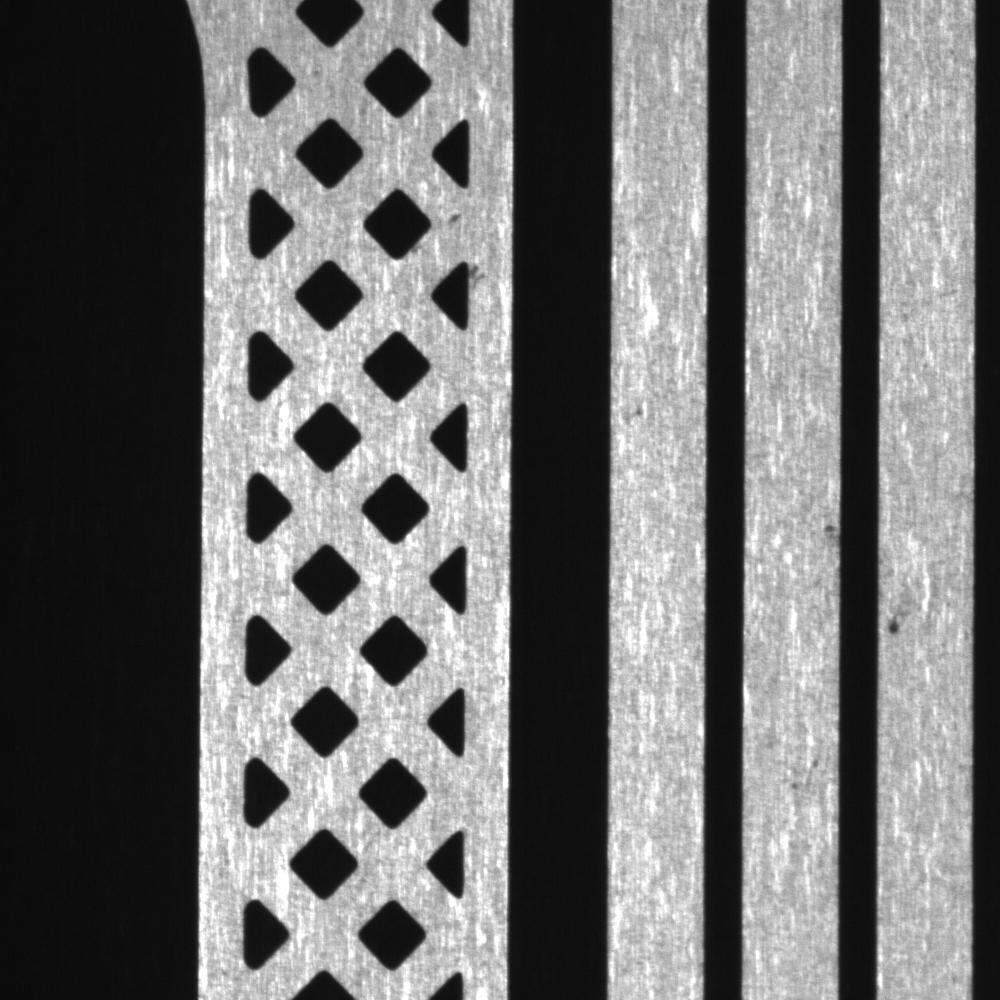Etching: (804, 517, 843, 616)
Pinhole: (882, 606, 907, 640)
